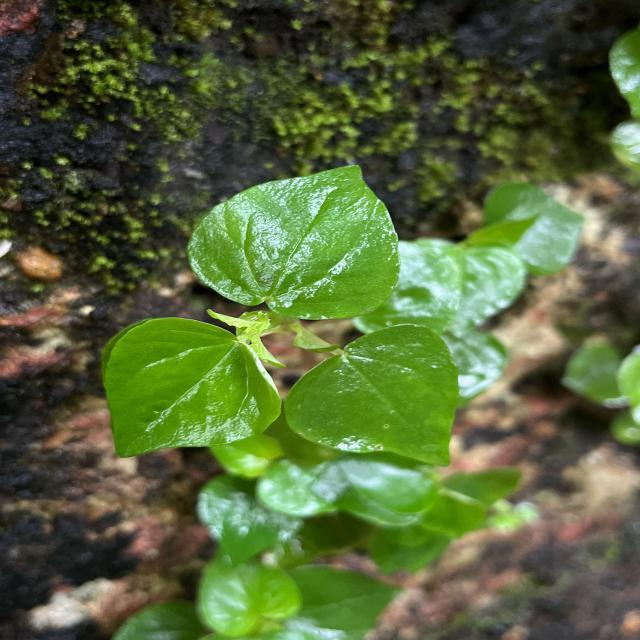Peperomia pellucida: (182, 162, 402, 322), (100, 315, 286, 461)
